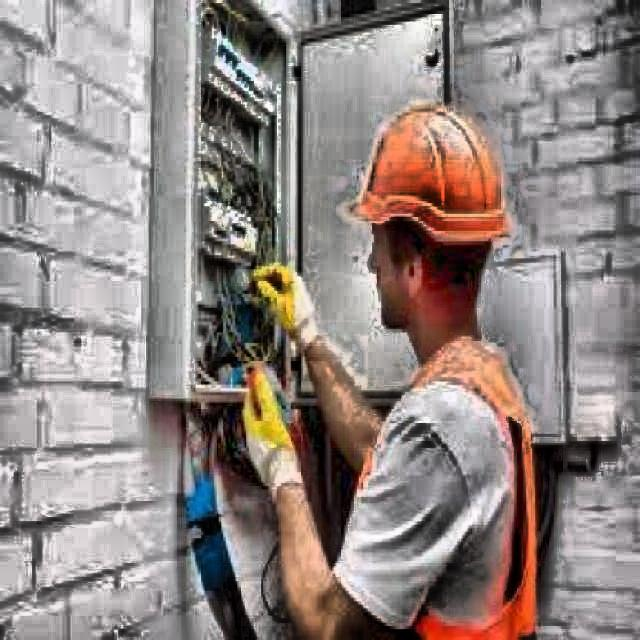safety_helmet: (353, 109, 527, 242)
safety_jacket: (348, 343, 555, 640)
